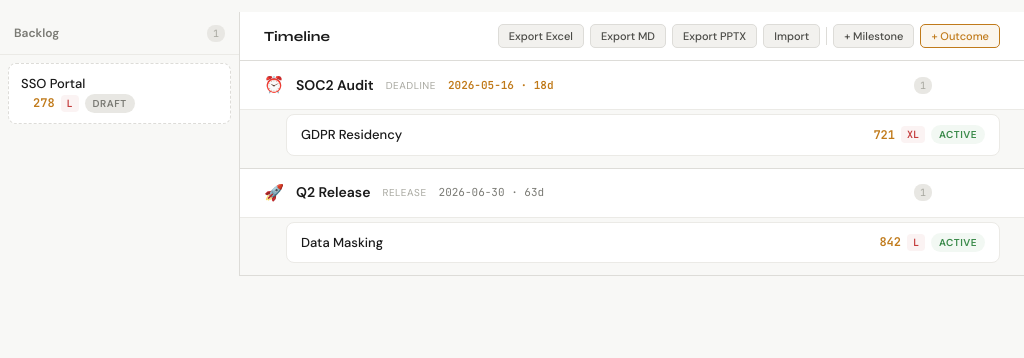
it: TimelineView › shows outcome form when clicking + Outcome
Click the button "+ Outcome".
click(960, 36)  # box [920,24,1000,48]
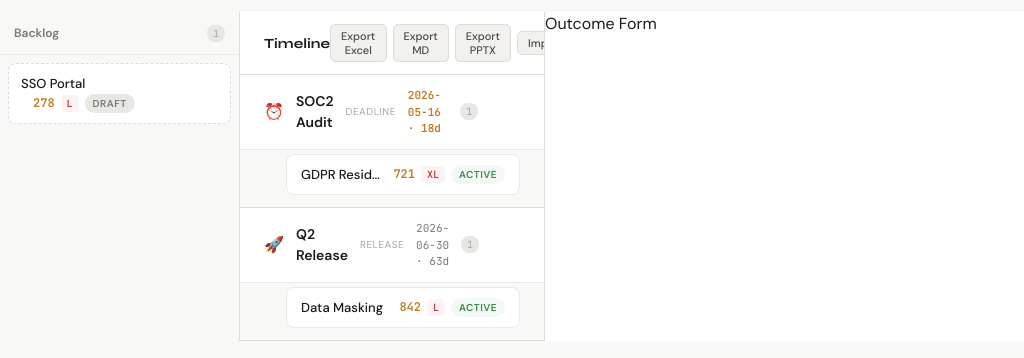
Check: the text "Outcome Form" is shown, box [545,13,657,34]
